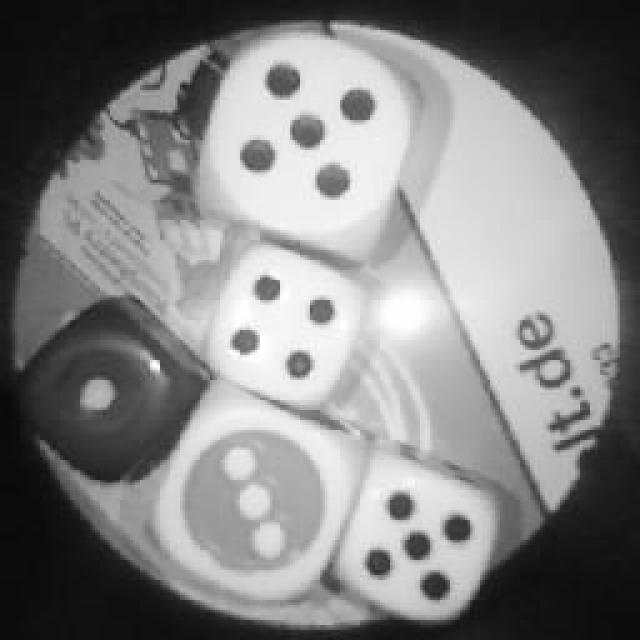dice_1: (17, 292, 205, 482)
dice_3: (162, 383, 362, 605)
dice_4: (213, 242, 365, 410)
dice_5: (202, 25, 422, 255), (328, 445, 512, 633)
